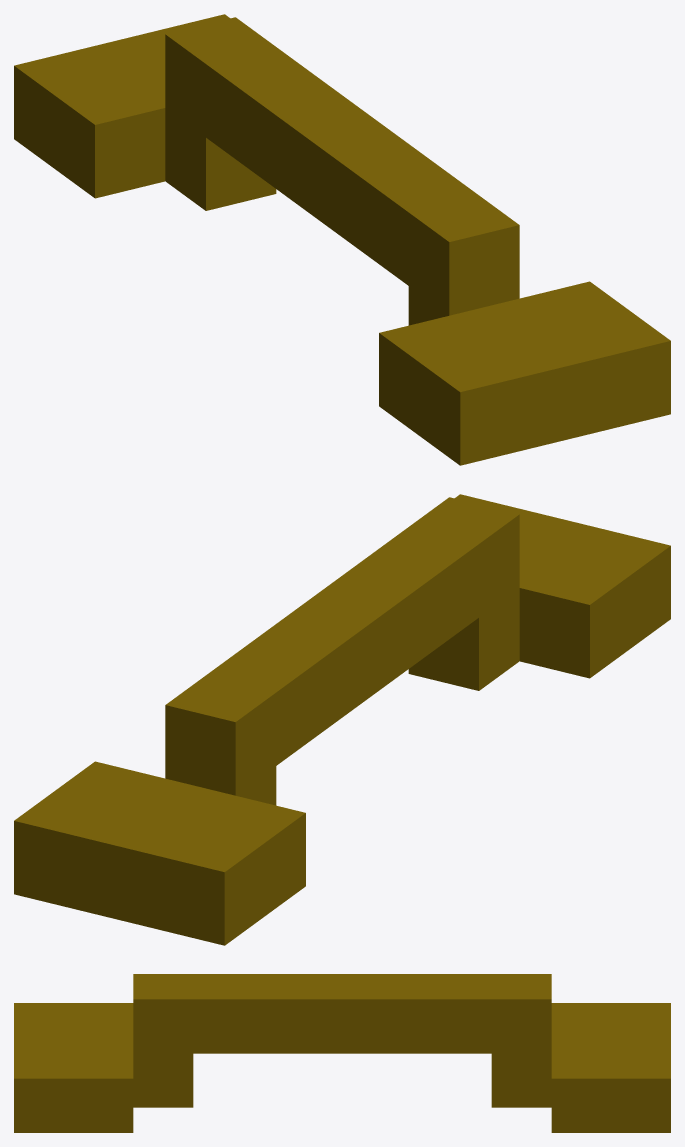
The model's file is scales_base.gltf.
3 renders of one model, top to bottom at view 1: azimuth 30°, elevation 25°; view 2: azimuth 150°, elevation 25°; view 3: azimuth 270°, elevation 25°, orthographic. The views are drawn at different scales.
Visible parts, largest first — view 1: Scales Plates; view 2: Scales Plates; view 3: Scales Plates.
Boxes of the visible parts, x1,y1,x2,y2 form: Scales Plates: [14, 14, 670, 465]; Scales Plates: [14, 494, 670, 945]; Scales Plates: [14, 974, 670, 1132].
Bounding box in the file's own units: 3 × 2 × 11.
1 material, 1 textured.
